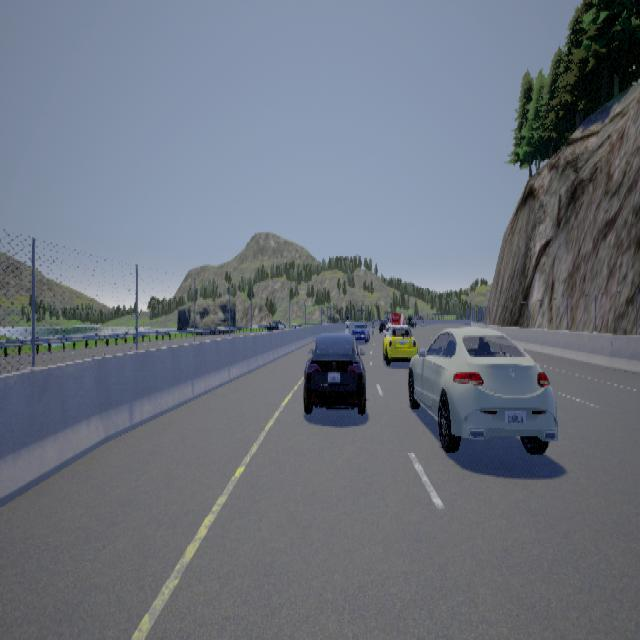vehicle: (407, 312, 557, 456), (302, 322, 369, 414), (382, 322, 419, 366)
